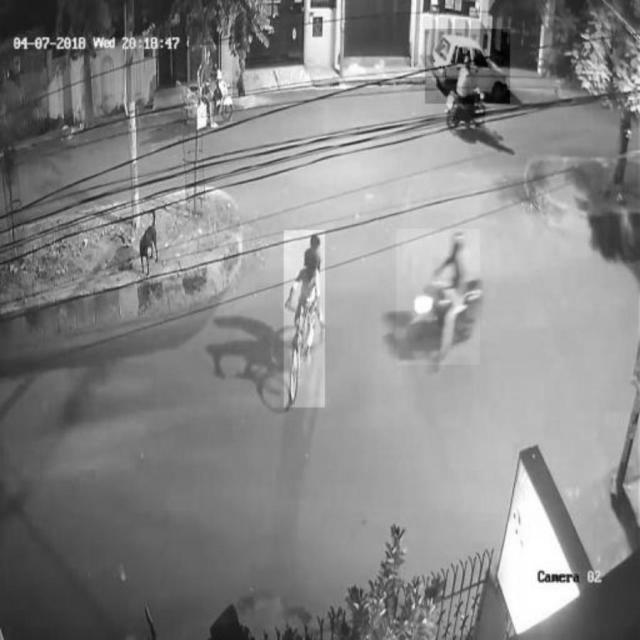vehicle: (397, 229, 480, 365), (284, 230, 325, 407), (425, 29, 509, 103), (188, 46, 233, 124), (447, 57, 485, 128)
